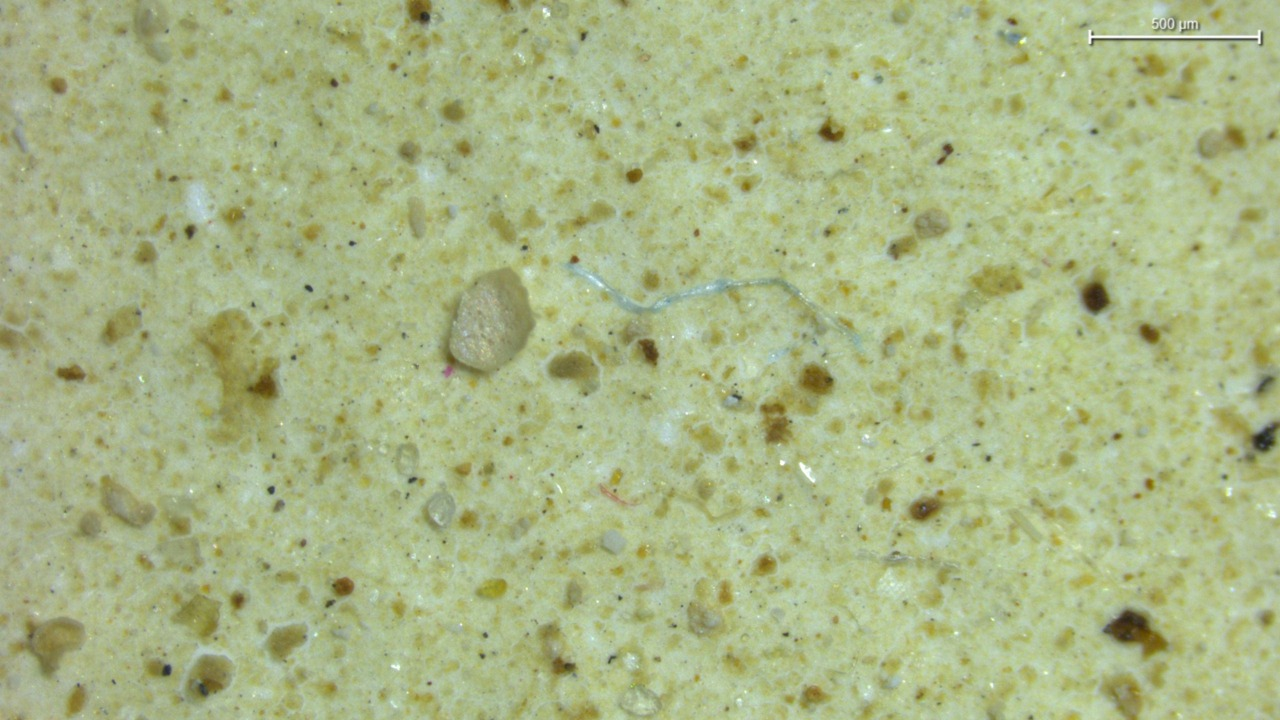microplastic_fragment: (448, 268, 534, 372), (103, 484, 155, 526), (424, 488, 457, 530), (601, 529, 626, 554)
